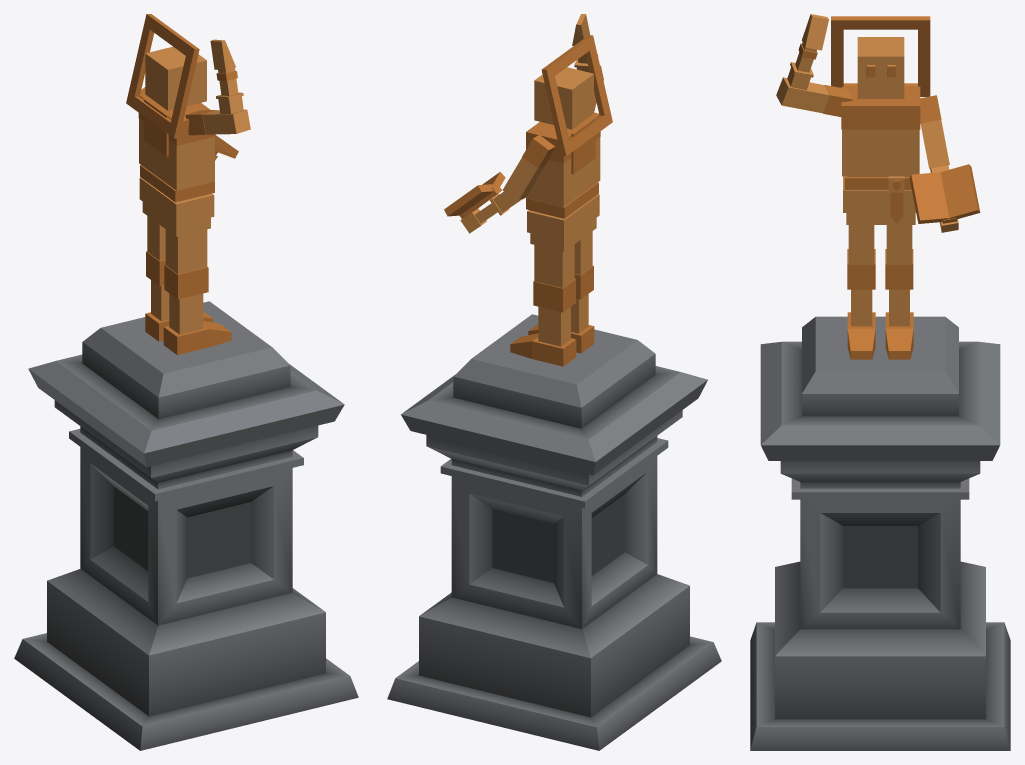
Rendered from failsafe3.glb.
3 views of the same model, side by side, from view 1: azimuth 30°, elevation 25°; view 2: azimuth 150°, elevation 25°; view 3: azimuth 270°, elevation 25° (orthographic). The views are drawn at different scales.
Parts seen in each view (by area): view 1: Cube.001; view 2: Cube.001; view 3: Cube.001.
Boxes of the visible parts, x1,y1,x2,y2 form: Cube.001: (14,14,358,750); Cube.001: (387,14,721,750); Cube.001: (750,14,1010,750).
Size of the model in its own units: 2 by 5.78 by 2.
